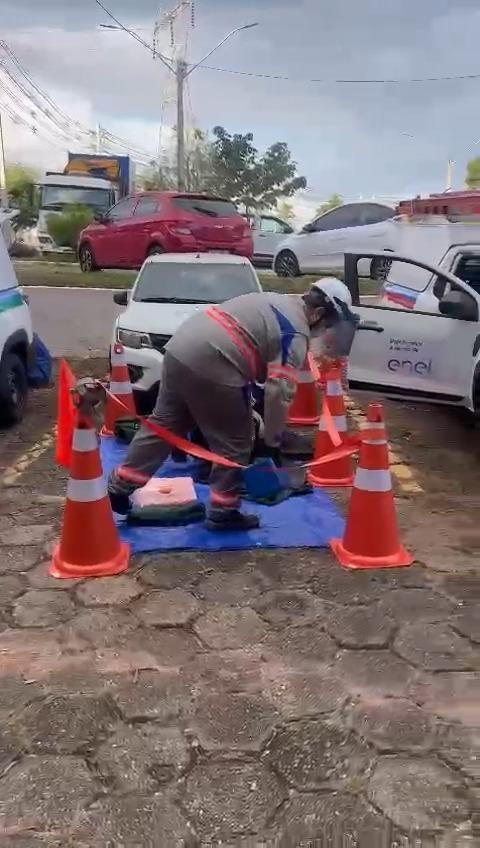Cone: (55, 402, 129, 579), (345, 396, 413, 576), (313, 356, 361, 477), (103, 336, 139, 435)
Helmet: (303, 264, 369, 344)
